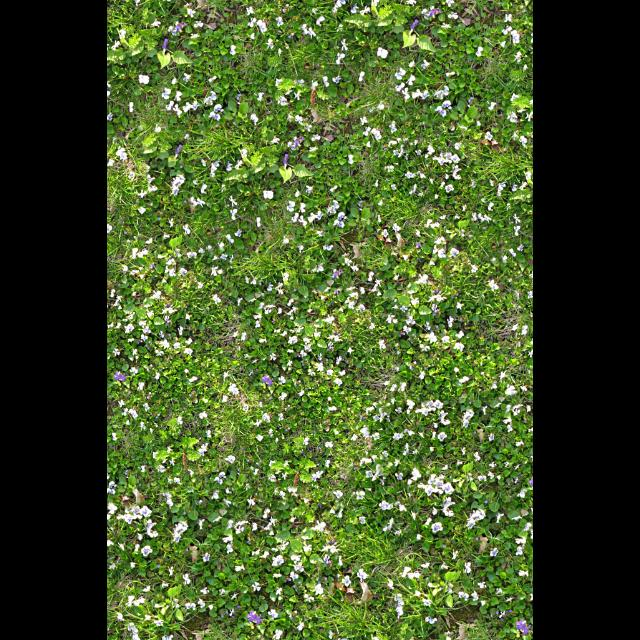Flower: (142, 547, 152, 559)
